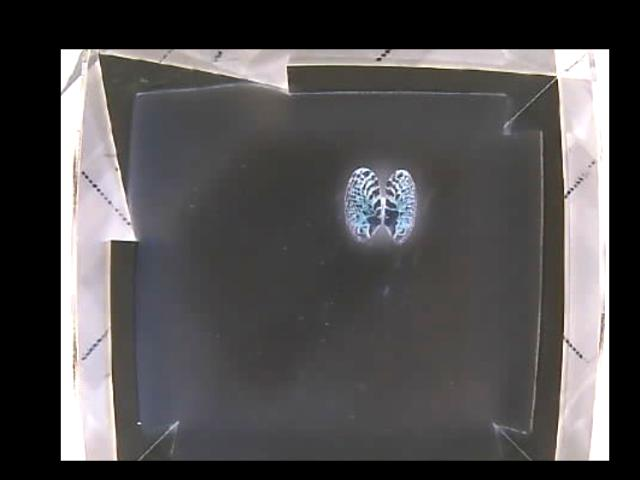Shell: (344, 166, 419, 246)
